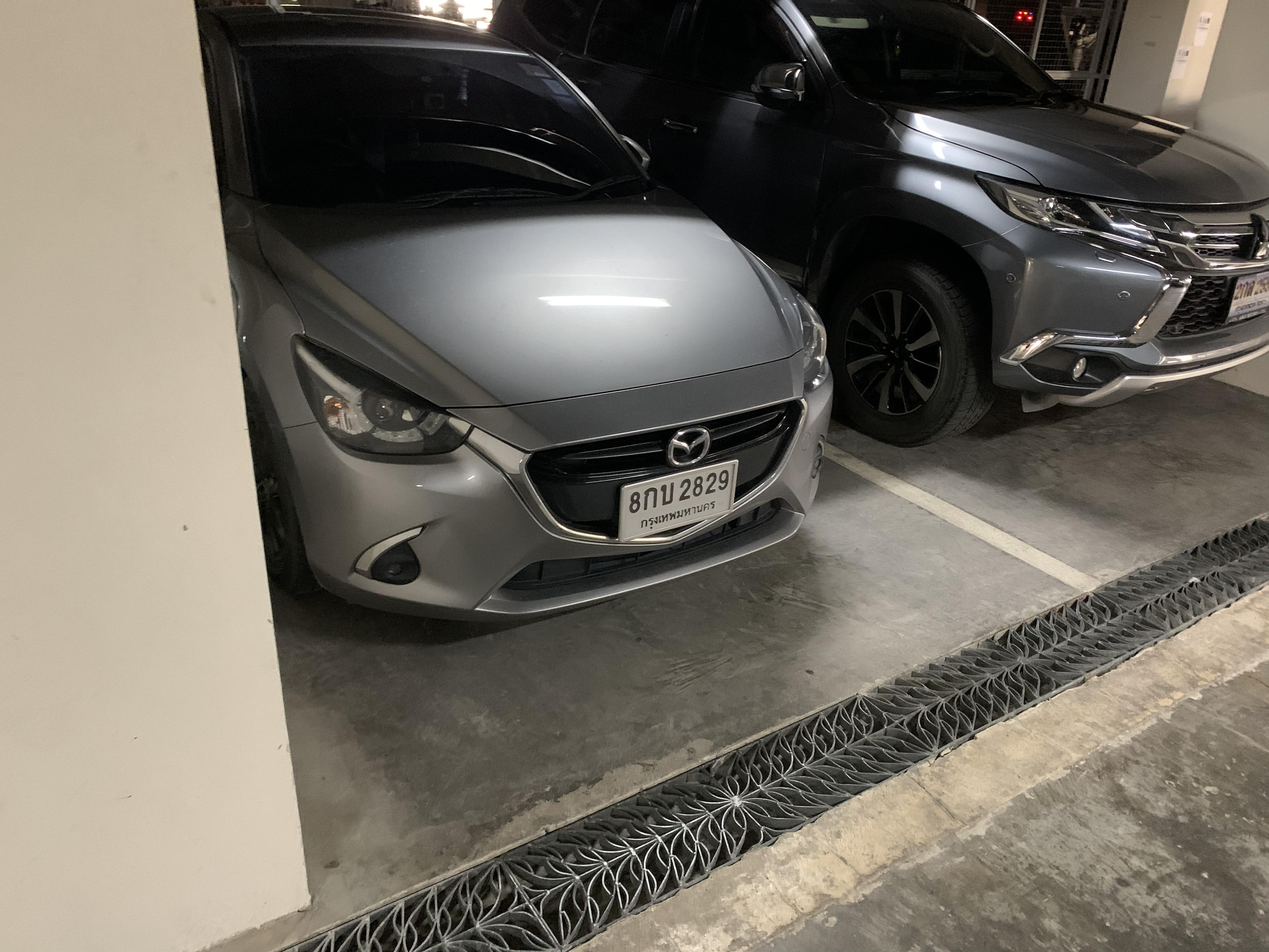license-plate: (620, 453, 746, 544), (1226, 269, 1269, 322)
